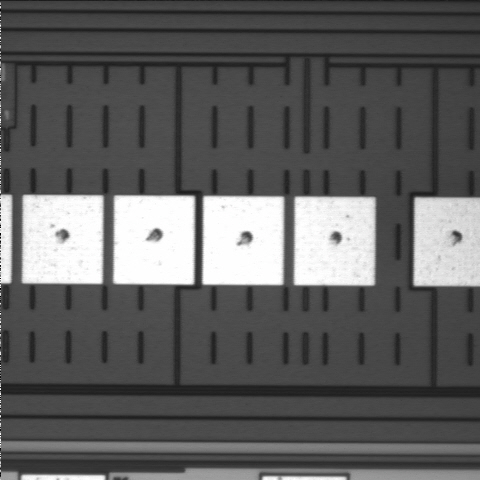pad: (113, 195, 195, 285), (202, 196, 284, 285), (22, 195, 103, 284), (294, 197, 375, 285)
